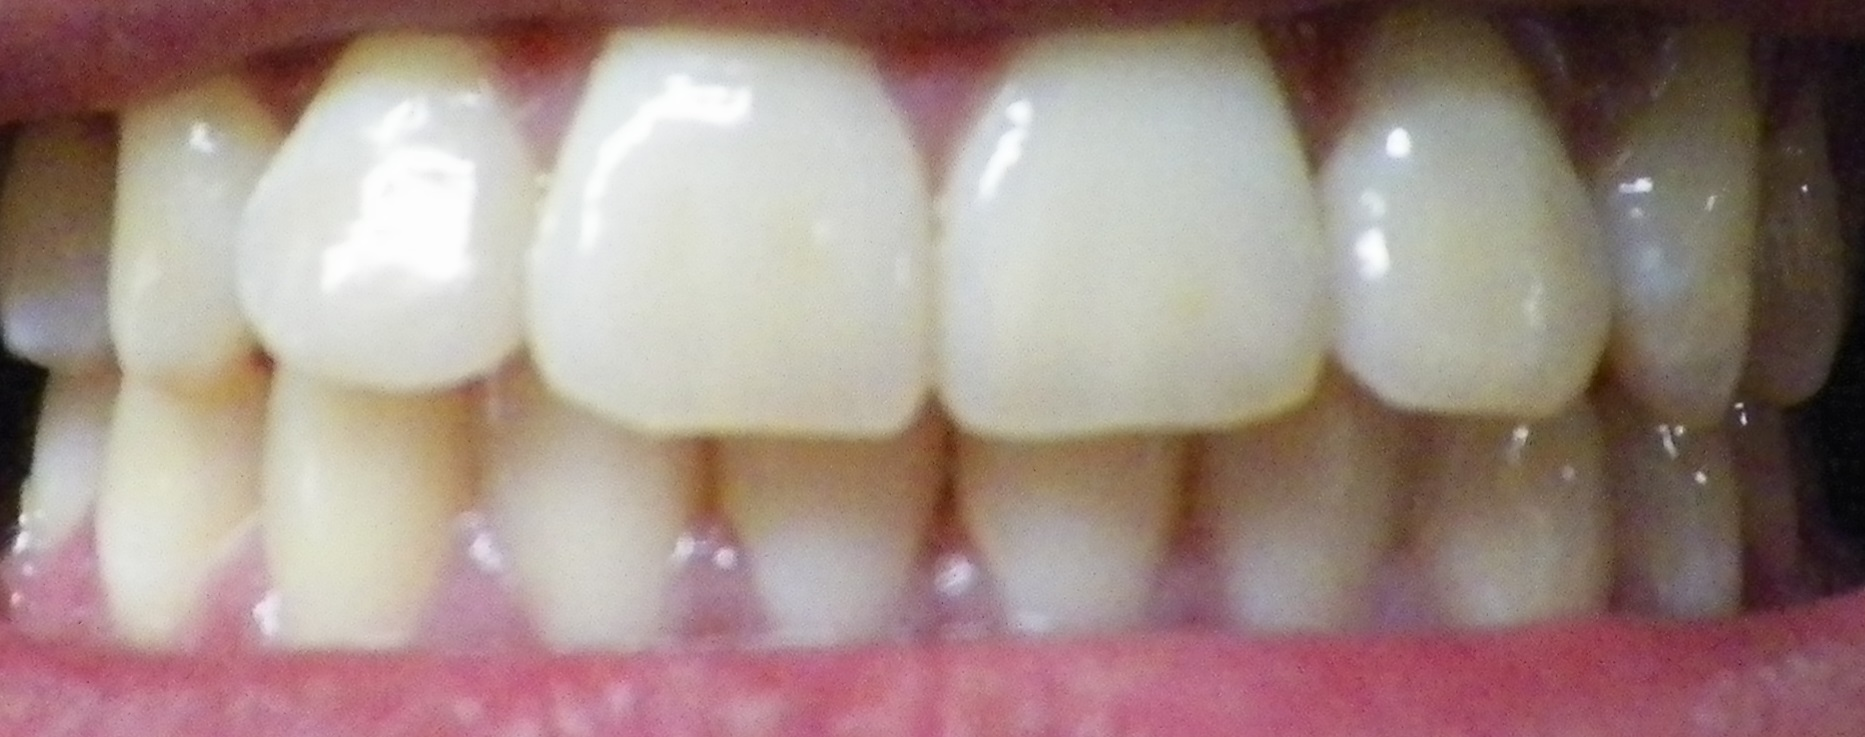boca: (2, 34, 1827, 626)
